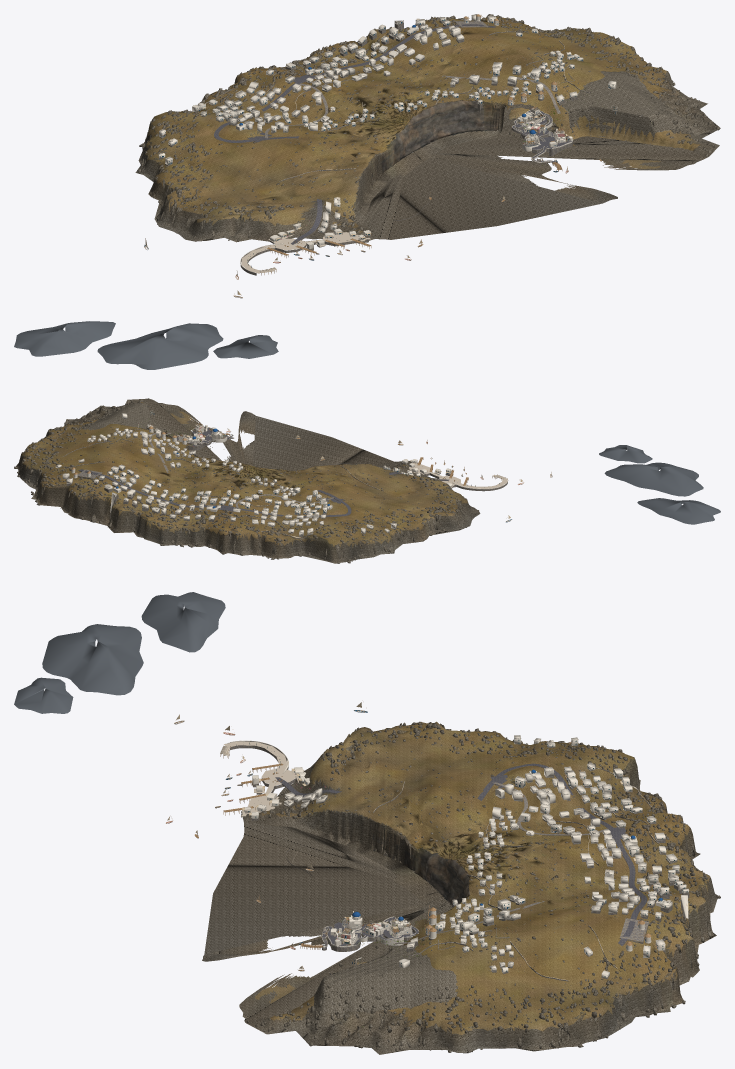
Rendered from santorini_v4_lite-B5NOktru.glb.
3 renders of one model, top to bottom at view 1: azimuth 30°, elevation 25°; view 2: azimuth 150°, elevation 25°; view 3: azimuth 270°, elevation 25°, orthographic. The views are drawn at different scales.
Visible parts, largest first — view 1: cell_big, cell_5,1, cell_0,0, cell_2,1, cell_-5,3, cell_2,2; view 2: cell_big, cell_5,1, cell_2,1, cell_-5,3; view 3: cell_big, cell_5,1, cell_0,0, cell_2,1, cell_-5,3.
Boxes of the visible parts, x1,y1,x2,y2 form: cell_big: (14,14,720,369); cell_5,1: (560,71,685,158); cell_0,0: (395,100,485,159); cell_2,1: (511,106,573,156); cell_-5,3: (269,223,371,251); cell_2,2: (522,129,571,171); cell_big: (14,398,720,563); cell_5,1: (81,402,190,436); cell_2,1: (177,430,224,450); cell_-5,3: (402,459,452,488); cell_big: (14,592,720,1054); cell_5,1: (314,945,458,1017); cell_0,0: (425,852,469,905); cell_2,1: (327,911,414,951); cell_-5,3: (241,767,309,820).
Bounding box in the file's own units: 882 × 54.55 × 569.
Materials: 133 (82 with a texture image).
